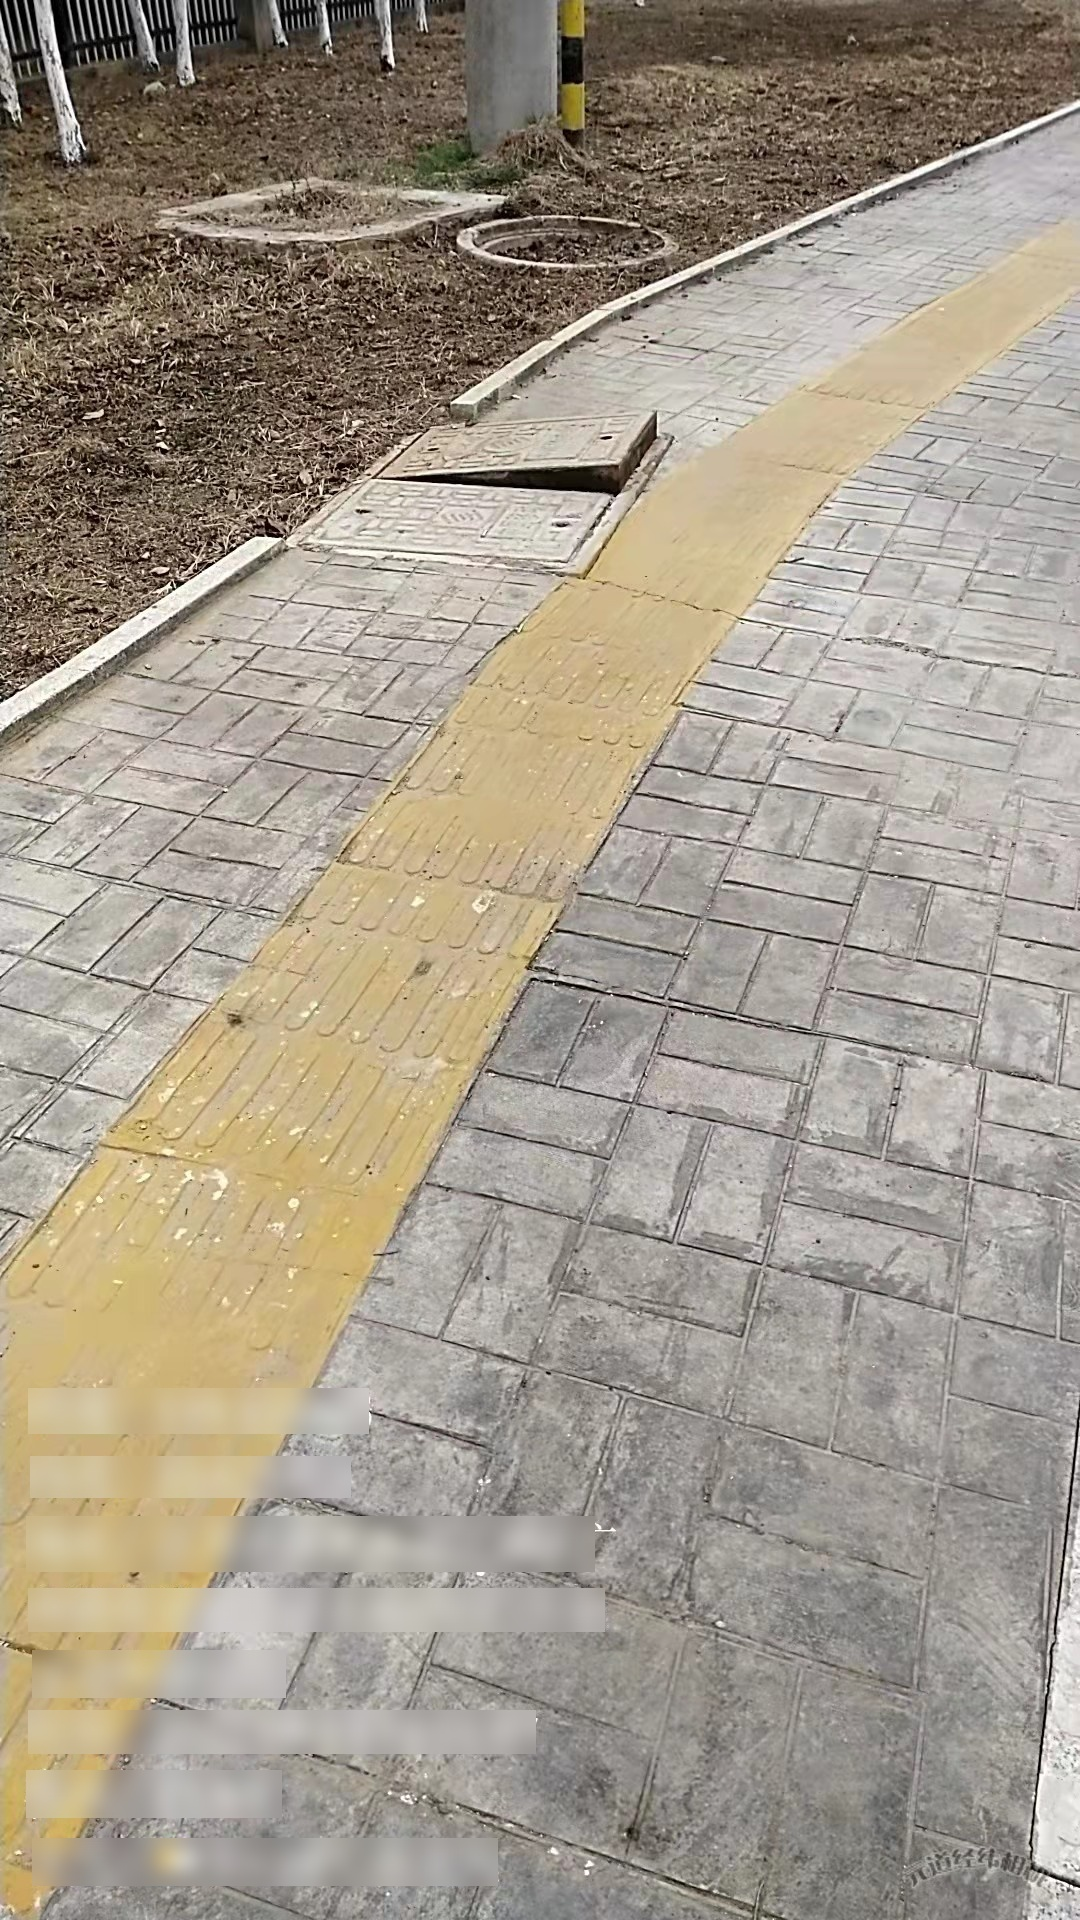well: (287, 411, 688, 578)
